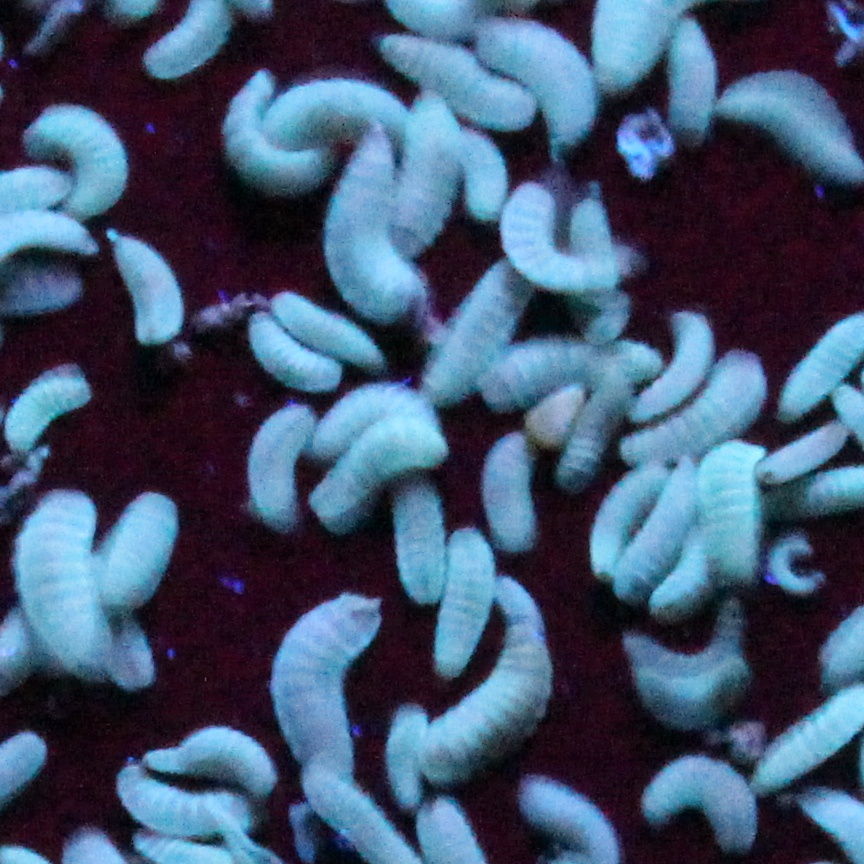larve: (264, 588, 385, 779), (323, 132, 433, 337), (9, 496, 120, 676), (462, 17, 605, 153), (315, 410, 472, 522), (210, 66, 331, 199), (30, 95, 149, 230), (386, 85, 464, 281), (92, 474, 184, 633), (609, 622, 746, 727), (114, 753, 264, 843), (577, 445, 674, 584), (139, 706, 282, 798), (492, 179, 612, 287), (635, 751, 762, 849), (690, 436, 769, 592), (625, 300, 720, 425), (107, 221, 193, 356), (430, 522, 502, 677), (267, 286, 392, 372), (479, 430, 546, 566), (247, 403, 313, 541)
